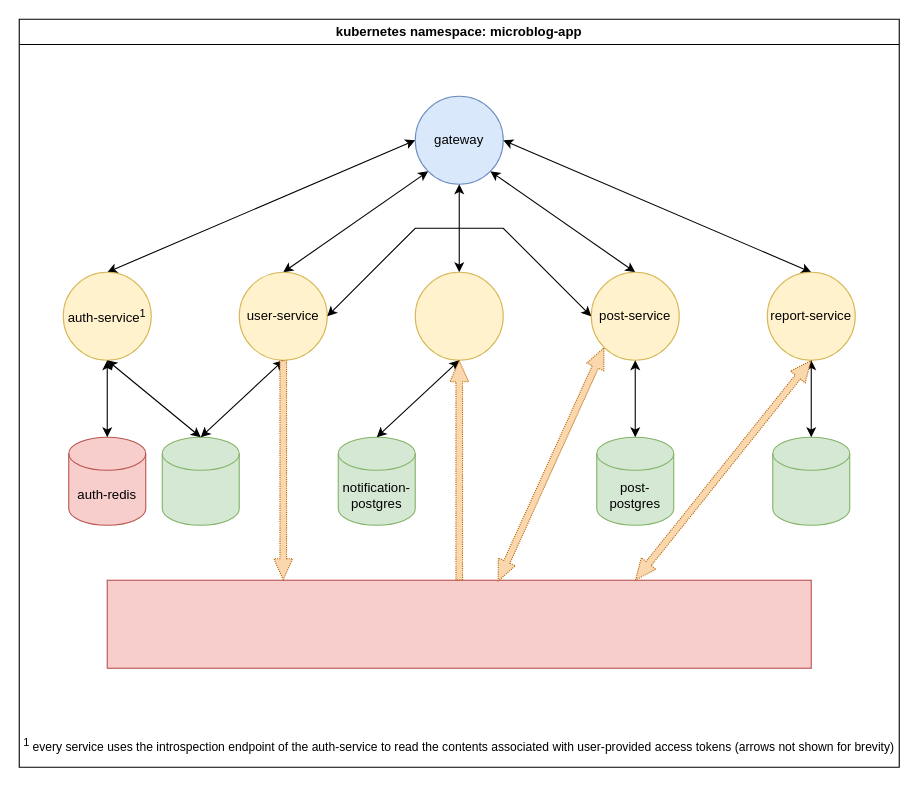
Some shapes in this 919 by 787 pixel diagram are drawn without their labels. The shapes that lost their labels are listed below. From the top down, each one's box as (x1, y1, x2, y2) in pixels, then its label:
(414, 271, 503, 360): notification-service
(161, 436, 239, 525): user-postgres
(772, 436, 850, 525): report-postgres
(106, 579, 811, 668): queue-redis
